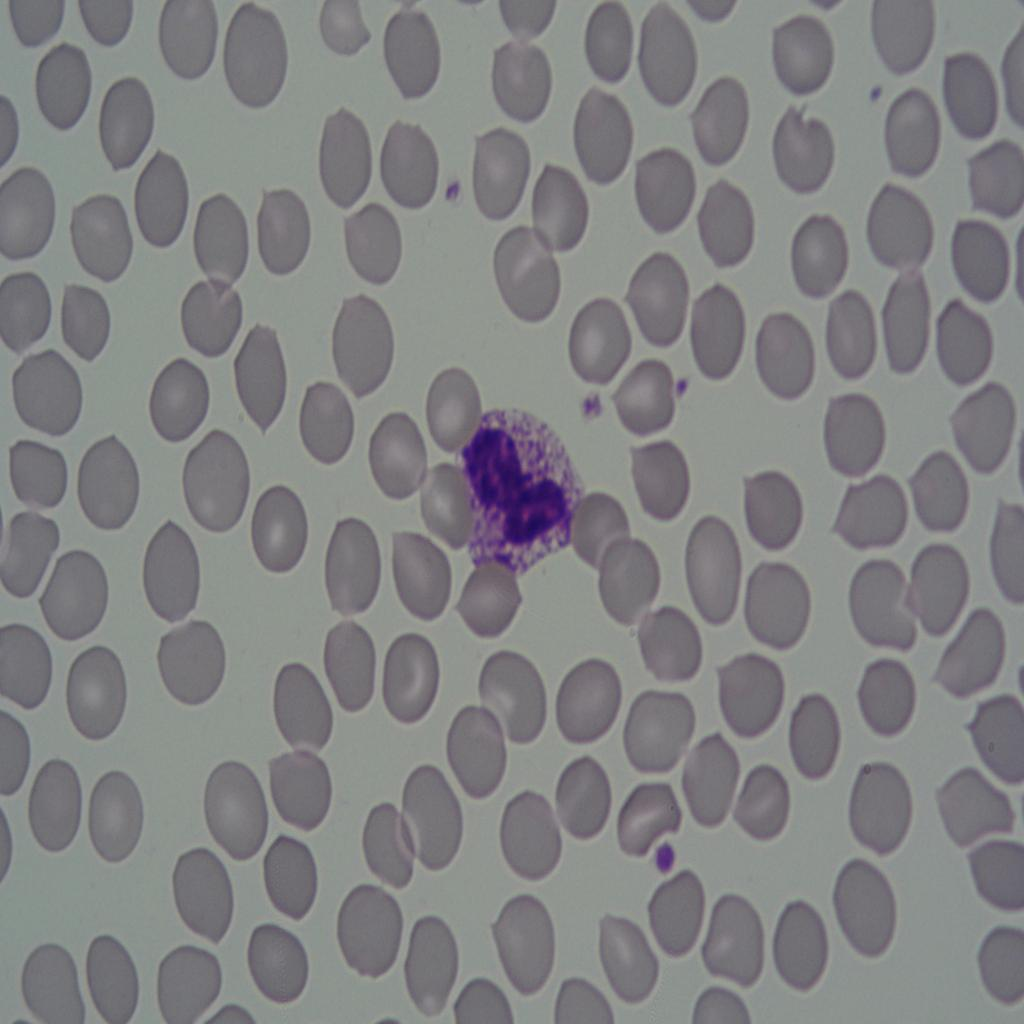Eosinofil: (456, 407, 585, 589)
Platelet: (577, 365, 615, 437), (671, 349, 703, 415), (648, 832, 684, 883), (442, 161, 464, 221)
